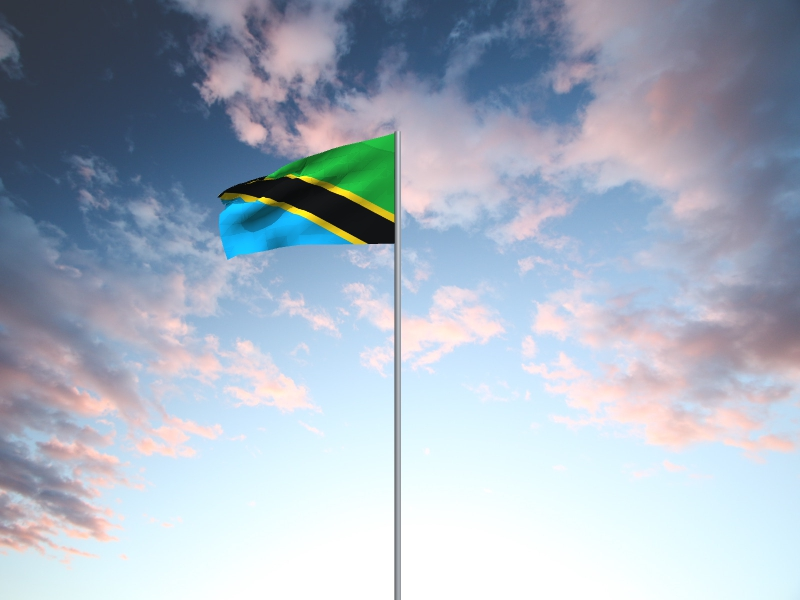tz: (219, 133, 396, 261)
